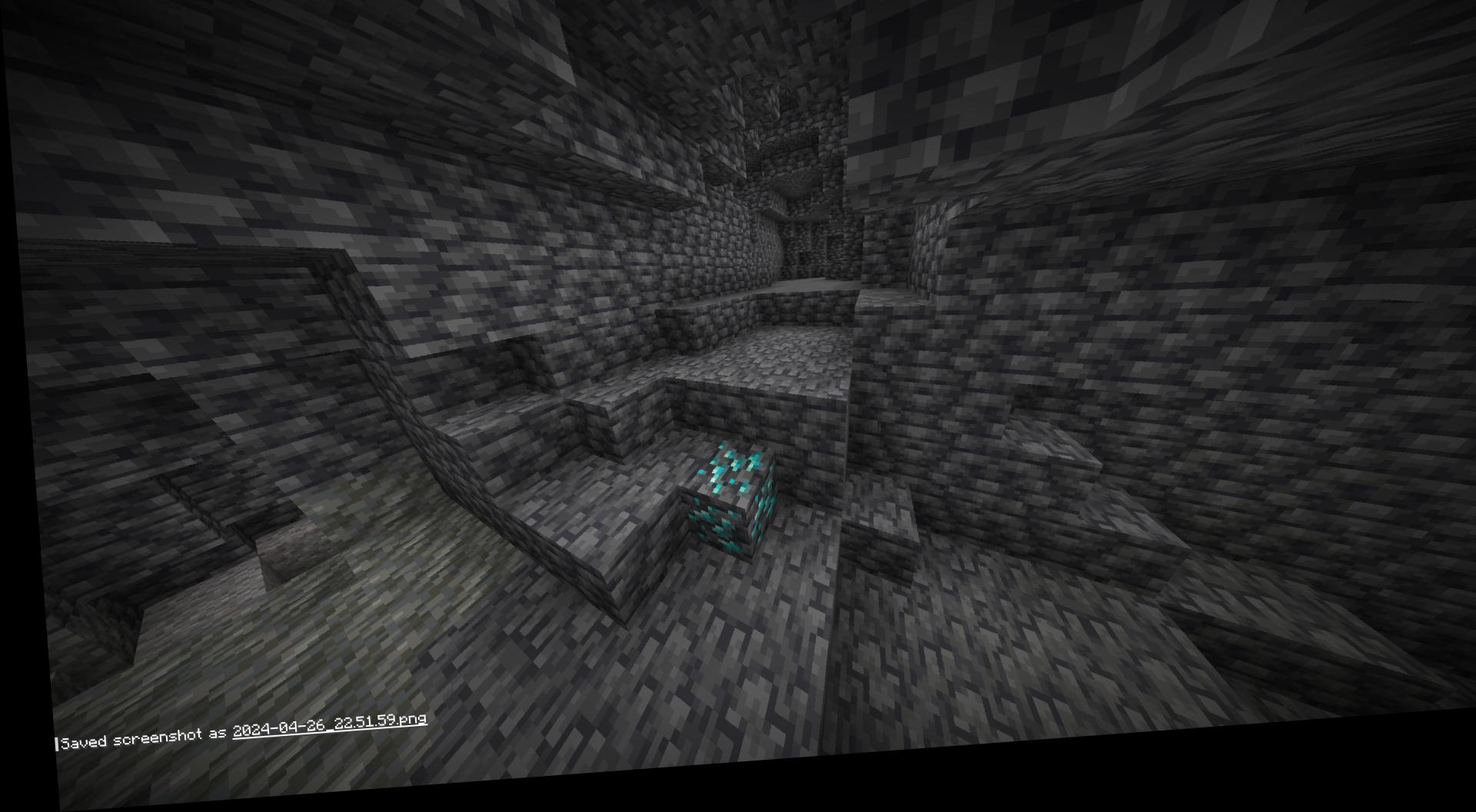diamond ore: (673, 447, 778, 569)
